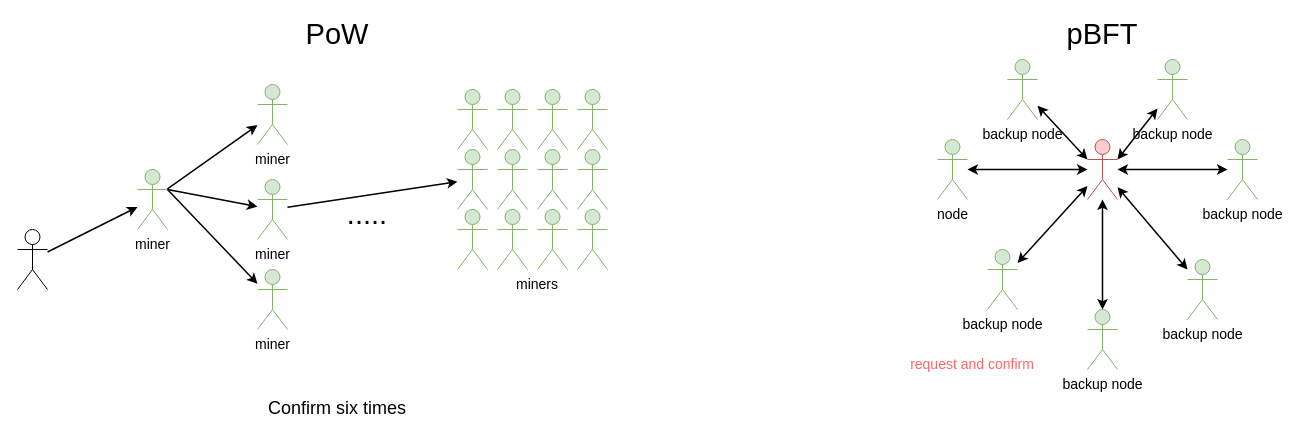
Image size: 1300x439. Some labels were removed from this diagram. The shapes that lost their labels are listed below. From the top down, each one's centre as x and y in pixels, then its label:
the point at 1102,169: leader node
the point at 32,259: user
